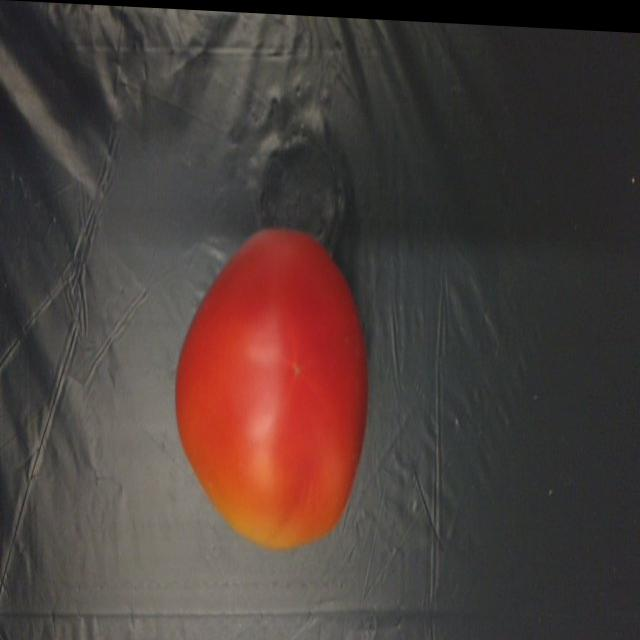kirmizi: (167, 214, 382, 562)
